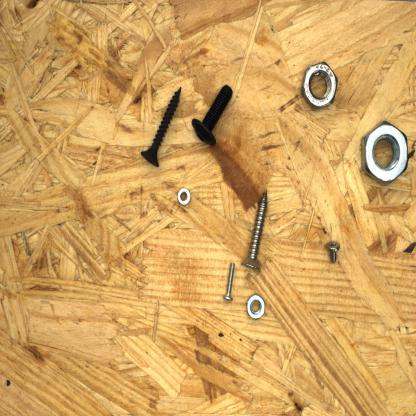screw: (140, 85, 183, 169), (190, 82, 234, 148), (239, 185, 269, 271), (222, 261, 236, 302), (323, 240, 342, 264)
